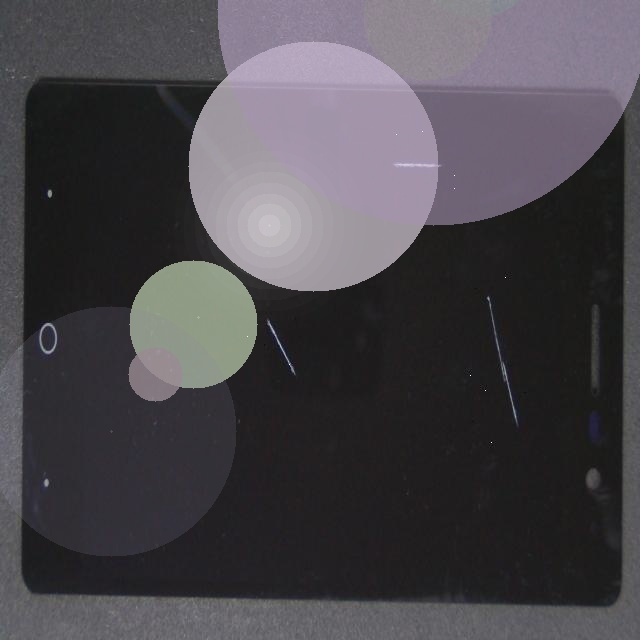scratch: (256, 225, 640, 640), (164, 63, 604, 260), (149, 147, 394, 458)
